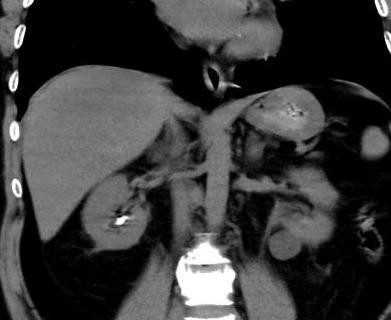Tas_Var: (114, 214, 129, 228)
